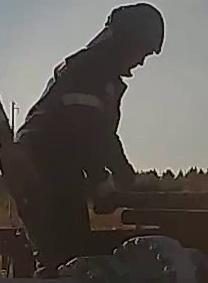gloves: (89, 171, 122, 214)
vest: (6, 49, 128, 242)
